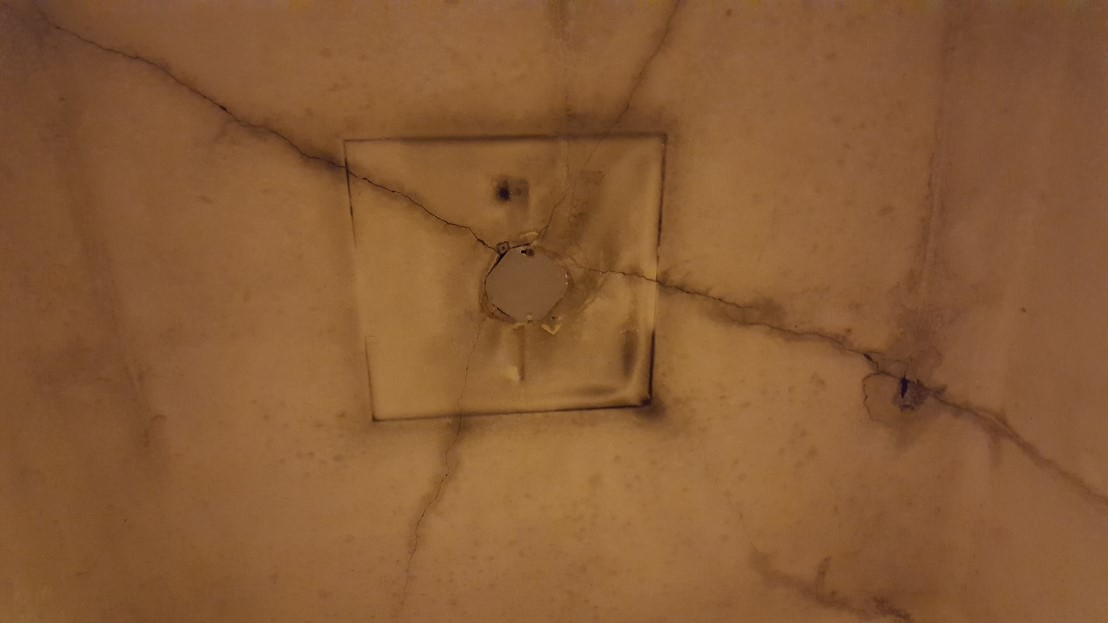Crack: (560, 248, 1108, 508), (14, 0, 509, 266), (524, 0, 686, 251), (385, 297, 496, 623)
